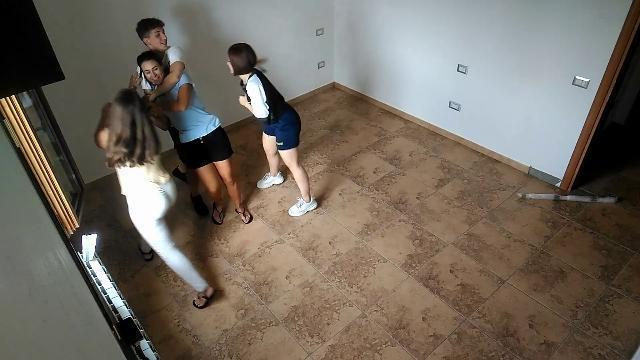non-violence: (224, 40, 320, 220)
violence: (92, 54, 218, 312), (130, 17, 254, 228)
